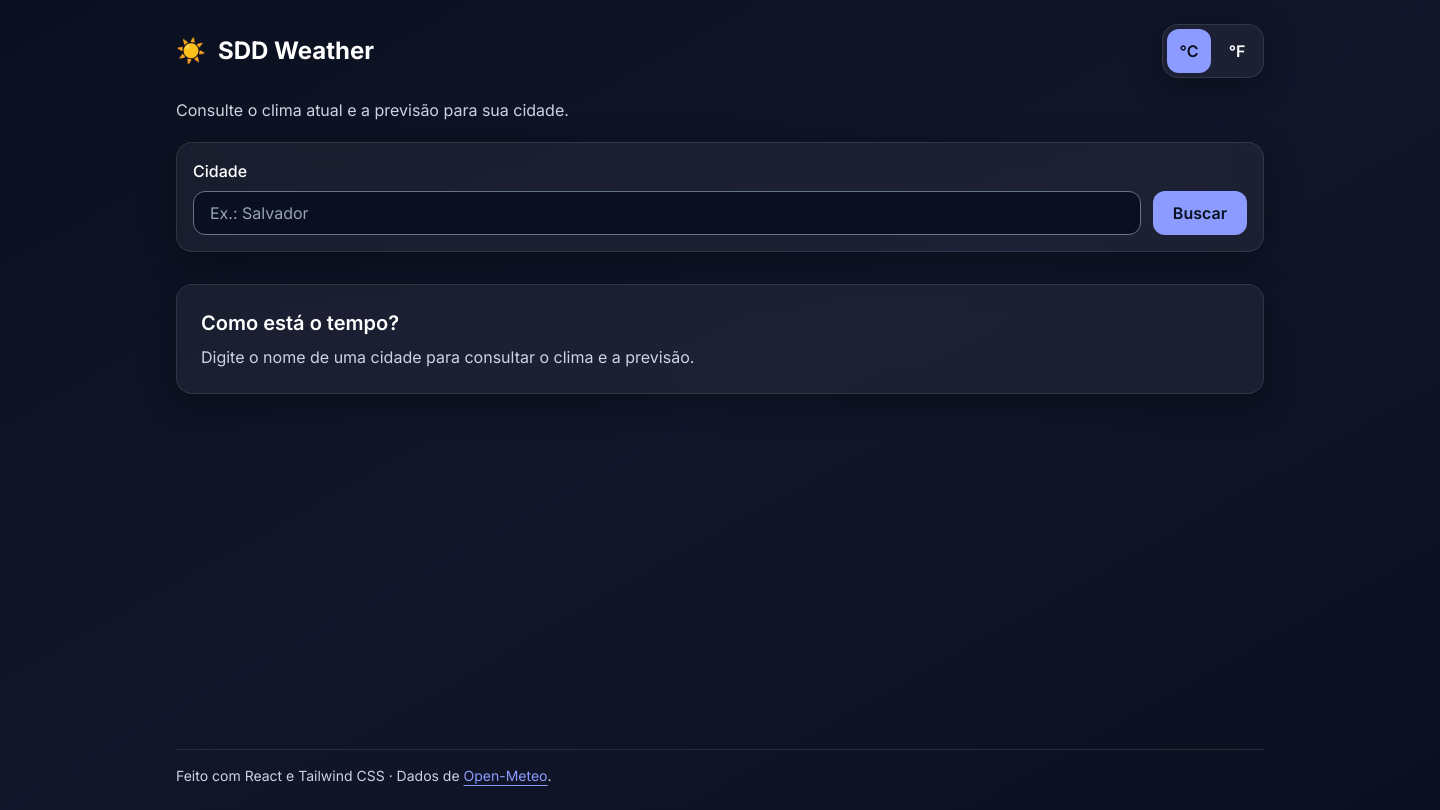
App integrado › continua com Celsius e permite buscar quando o armazenamento não está disponível
Step 1. Type "Salvador" into the search field labelled "Cidade" → {"x": 667, "y": 213}, box x1=193 y1=191 x2=1141 y2=235
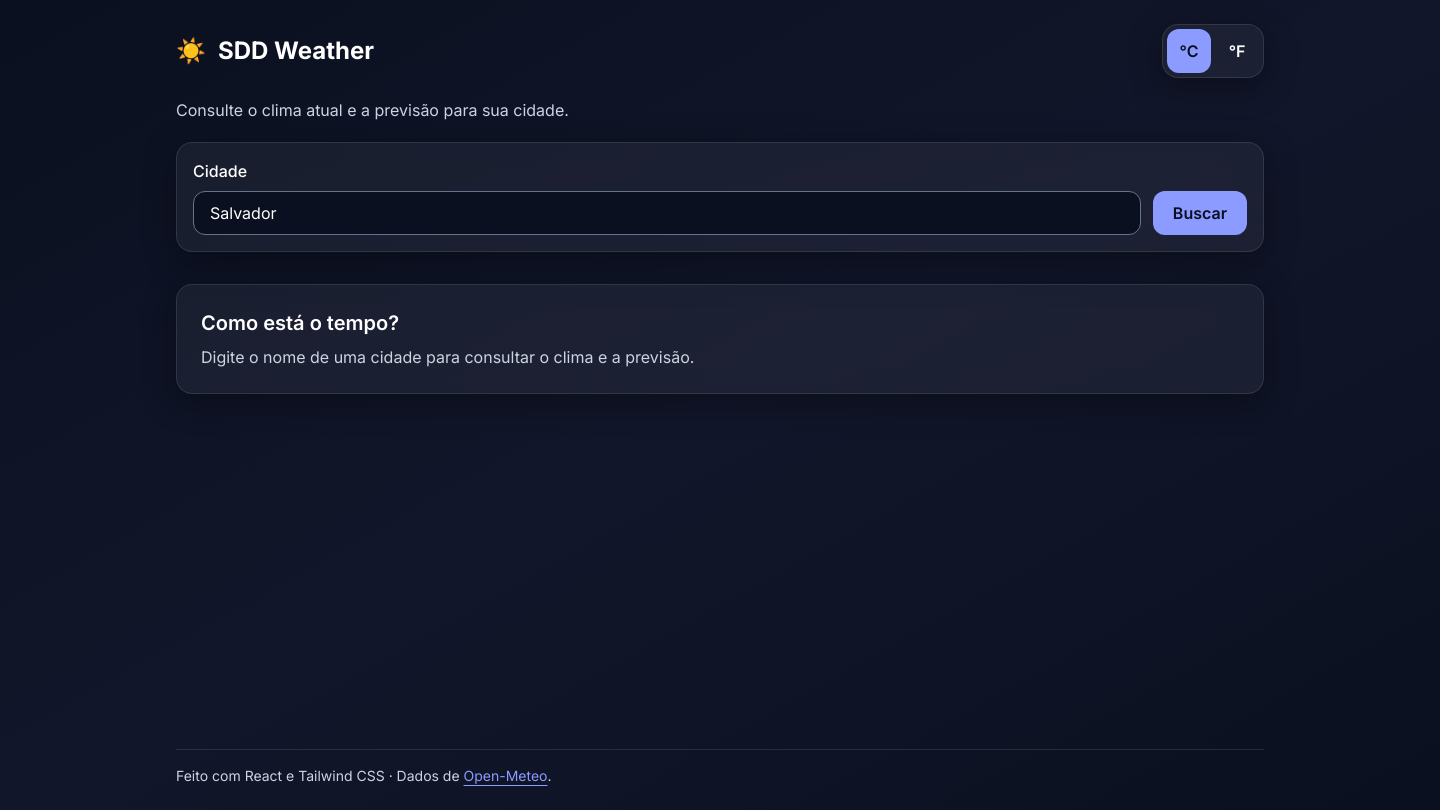
Step 2. Submit the form, box x1=176 y1=142 x2=1264 y2=252
(page scrolled)
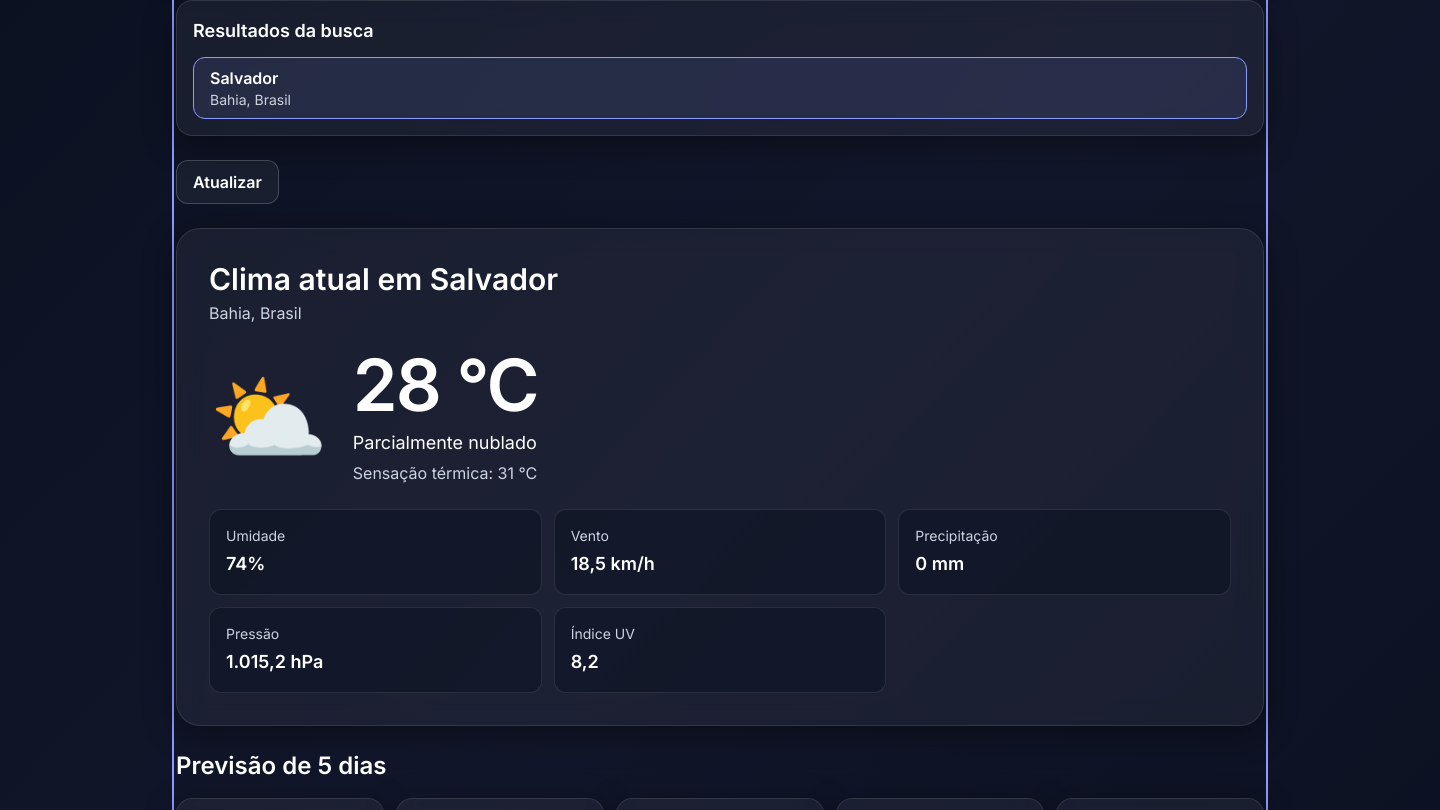
Expected: the heading "Clima atual em Salvador" is shown, x1=209 y1=261 x2=558 y2=297
